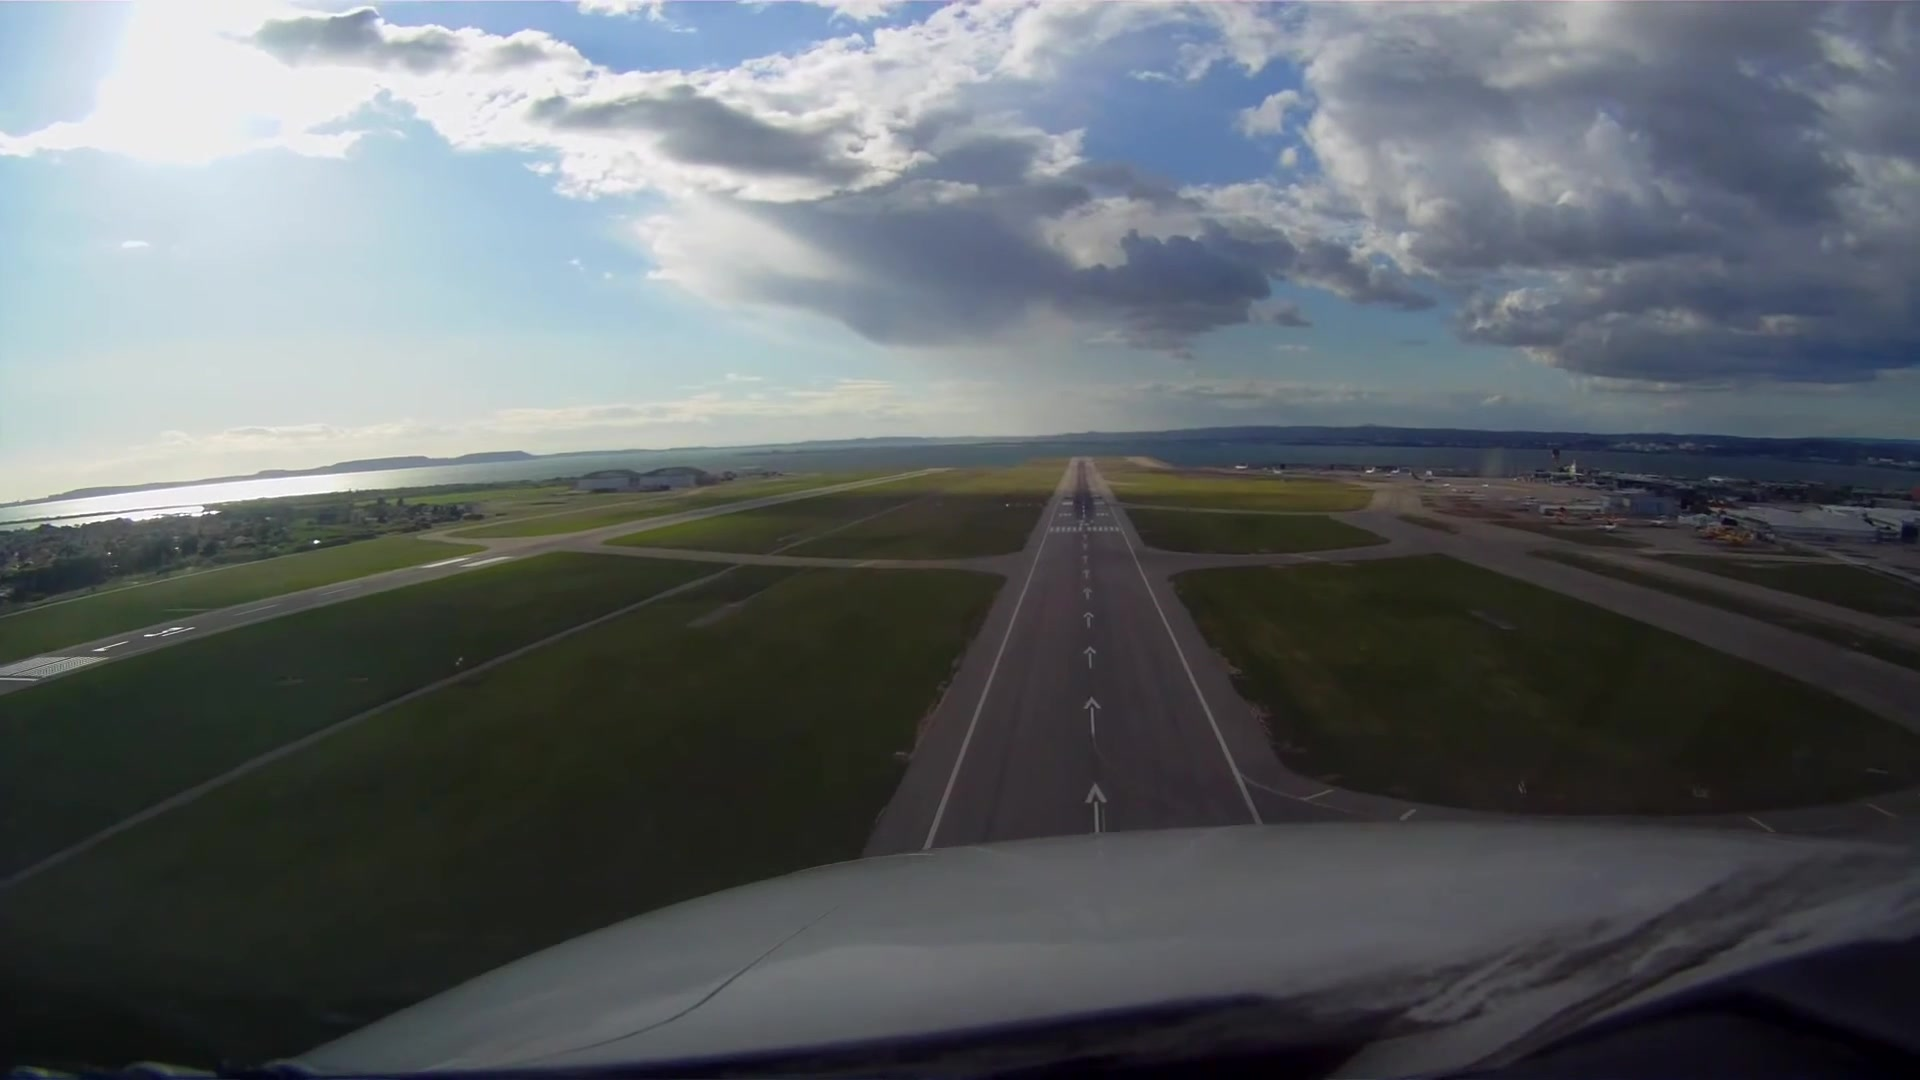entrance: (1042, 521, 1130, 537)
runway: (1029, 452, 1135, 553)
